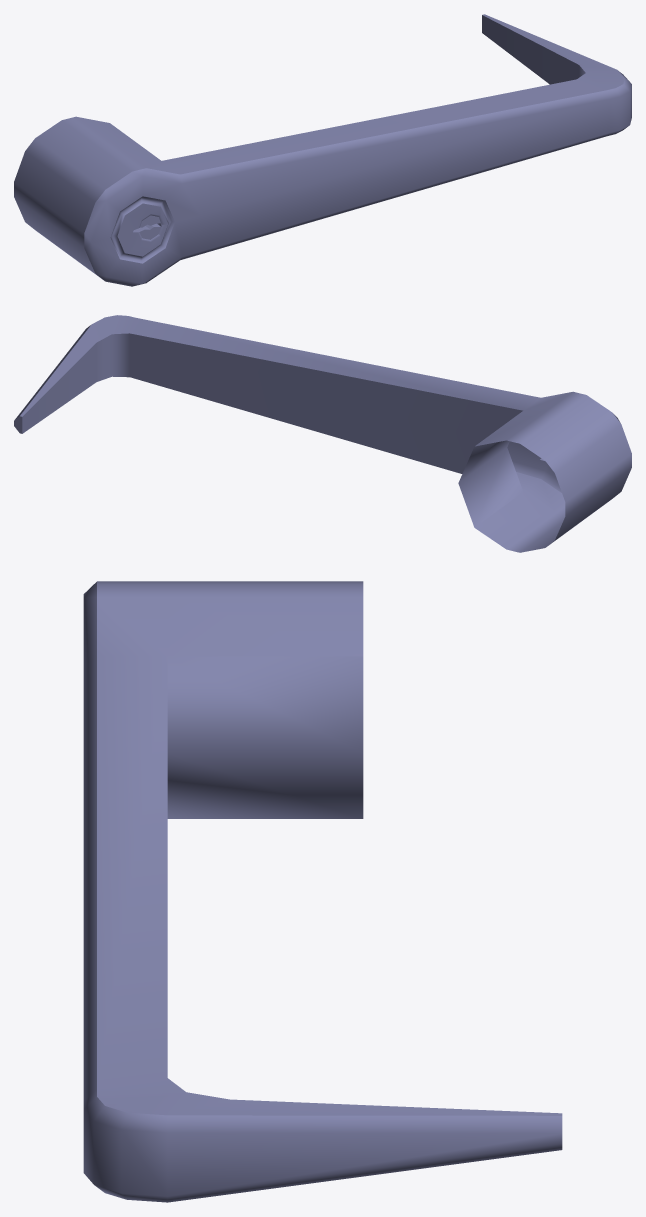
The model's file is Picaporte Amario Der 1 Vacio.fbx.
The picture shows the model from 3 angles, top to bottom: view 1: azimuth 30°, elevation 25°; view 2: azimuth 150°, elevation 25°; view 3: azimuth 270°, elevation 25°; orthographic projection. The views are drawn at different scales.
Visible parts, largest first — view 1: Picaporte_Amario_Der_1_Vacio; view 2: Picaporte_Amario_Der_1_Vacio; view 3: Picaporte_Amario_Der_1_Vacio.
Part boxes in pixels (<box>): Picaporte_Amario_Der_1_Vacio: <box>14,14,631,286</box>; Picaporte_Amario_Der_1_Vacio: <box>14,315,631,552</box>; Picaporte_Amario_Der_1_Vacio: <box>83,581,562,1202</box>.
Bounding box in the file's own units: 0.1095 × 0.0216 × 0.043.
